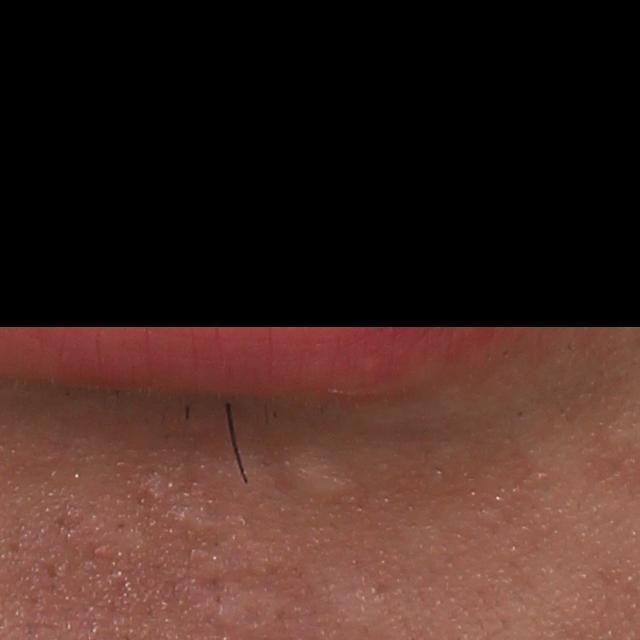hypertrophic_scar: (194, 579, 300, 633), (281, 457, 357, 502)
